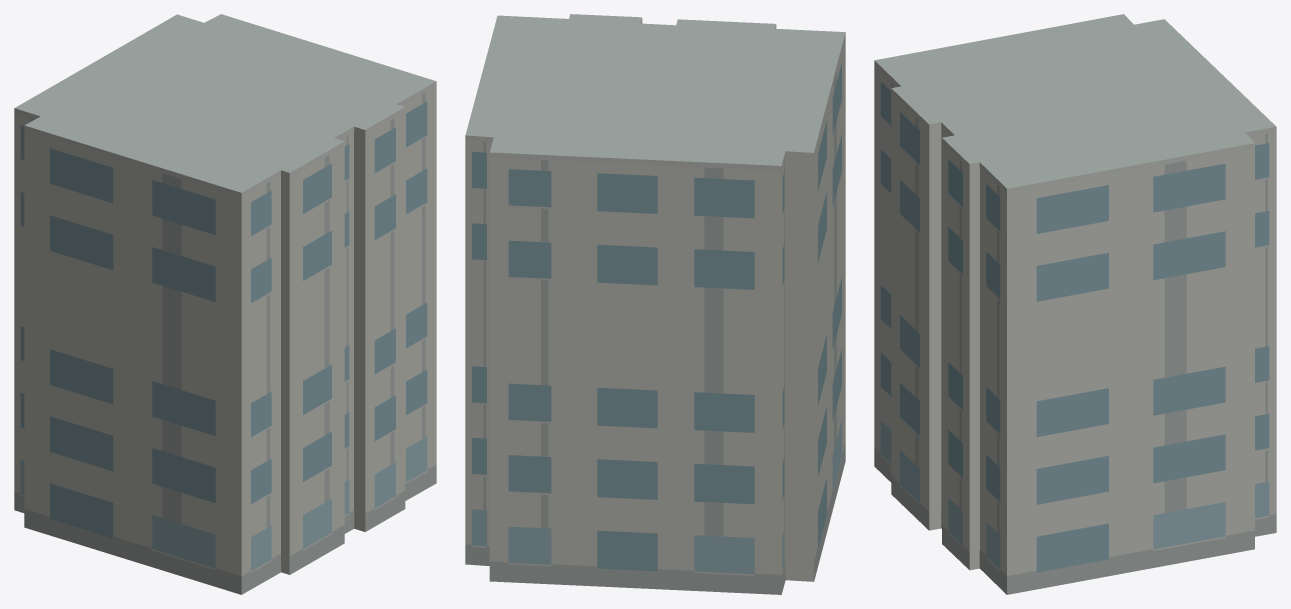
Rendered from survey-upis-33038455.glb.
3 renders of one model, left to right at view 1: azimuth 30°, elevation 25°; view 2: azimuth 150°, elevation 25°; view 3: azimuth 270°, elevation 25°, orthographic. The views are drawn at different scales.
Visible parts, largest first — view 1: survey-upis-33038455.tmp; view 2: survey-upis-33038455.tmp; view 3: survey-upis-33038455.tmp.
Part boxes in pixels (x1,y1,x2,y2): survey-upis-33038455.tmp: (14, 14, 436, 594); survey-upis-33038455.tmp: (465, 14, 845, 594); survey-upis-33038455.tmp: (874, 14, 1276, 594).
Size of the model in its own units: 18.19 by 19.7 by 17.68.
